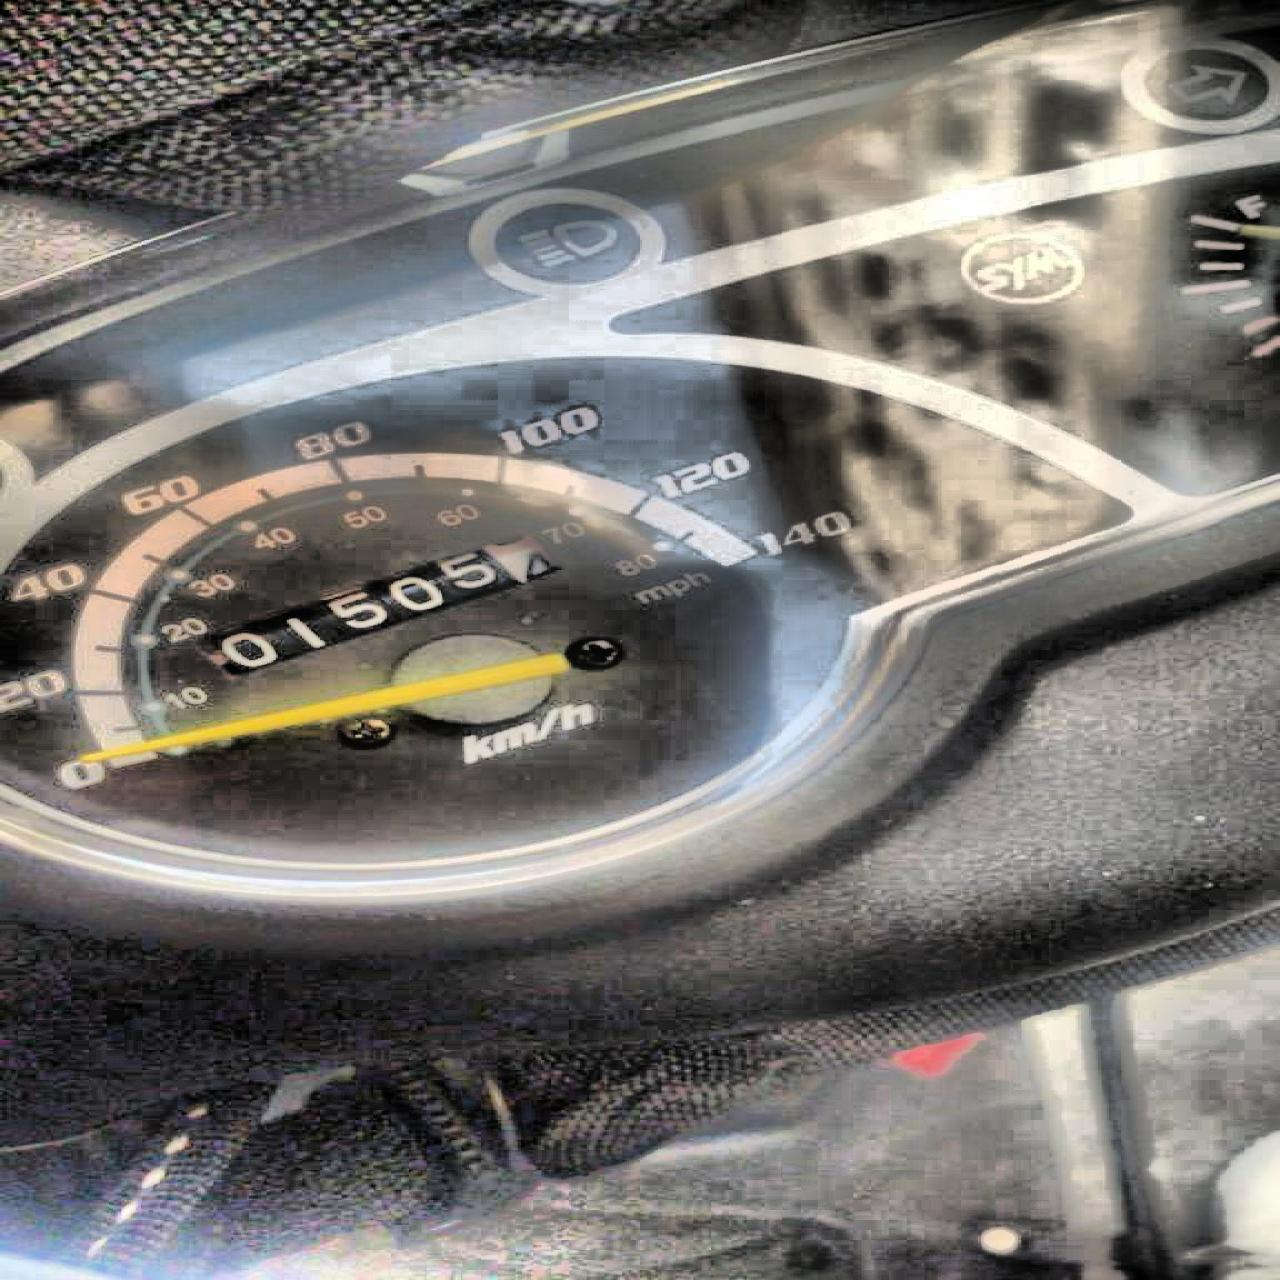0: (380, 576, 449, 610), (216, 633, 280, 667), (265, 525, 295, 543), (181, 615, 206, 634), (209, 572, 236, 588)
1: (278, 614, 327, 647)
3: (186, 579, 216, 598)
4: (511, 549, 560, 581), (248, 531, 275, 550)
5: (318, 591, 389, 628), (434, 551, 499, 587)
7: (538, 525, 564, 545)
odometer: (189, 529, 576, 678)
